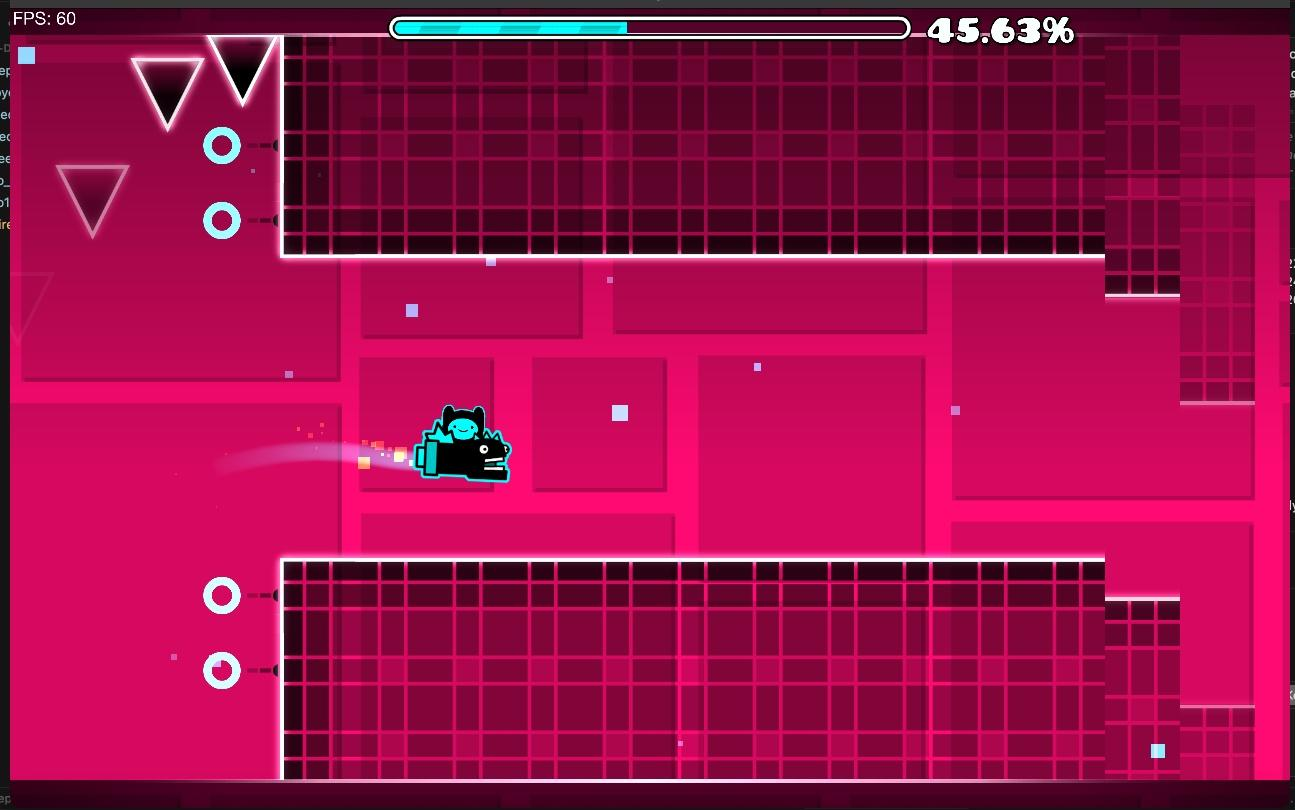block: (281, 561, 1102, 782)
spaceship: (411, 405, 511, 482)
spike: (207, 35, 275, 105)
